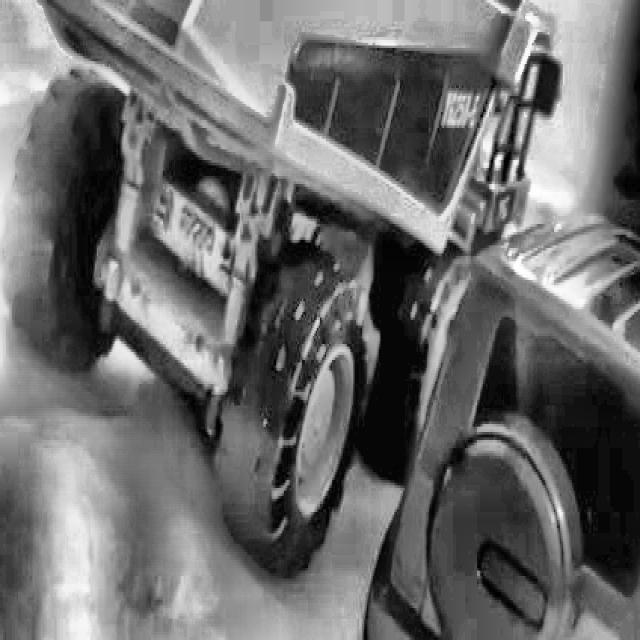dump_truck: (0, 0, 365, 528)
light_vehicle: (415, 229, 640, 640)
